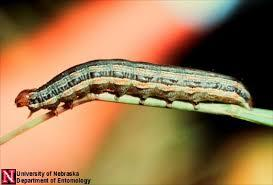fallarmy_worm: (9, 56, 259, 125)
